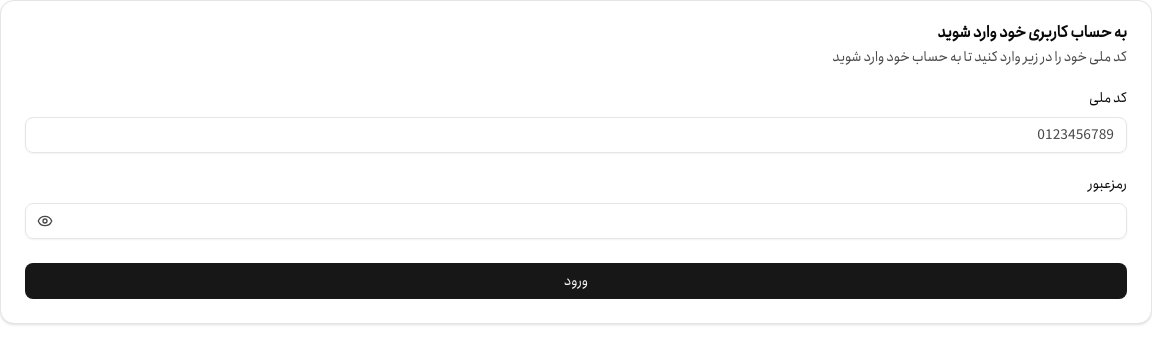
LoginForm › shows and hides the password on the admin login path
Step 1. Type "safe-password" into the password field labelled "رمزعبور" → coordinates (576, 221), box [25,203,1127,239]
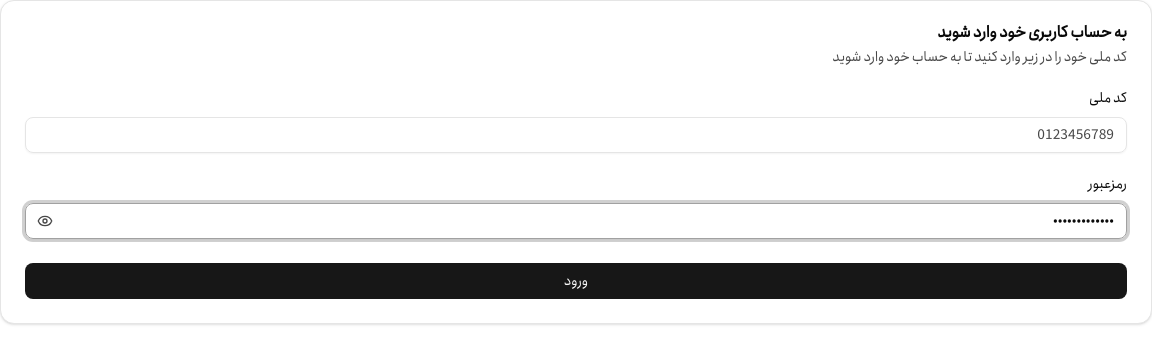
Step 2. Click the button named "نمایش رمز عبور" → coordinates (45, 221), box [33,209,57,233]
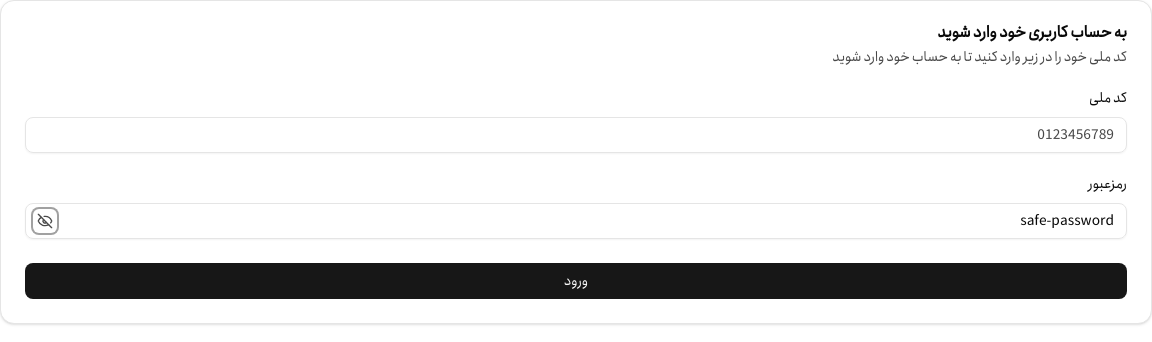
Result: the field labelled "رمزعبور" shows its text at [25,203,1127,239]
Step 3. Click the button named "پنهان کردن رمز عبور" → coordinates (45, 221), box [33,209,57,233]
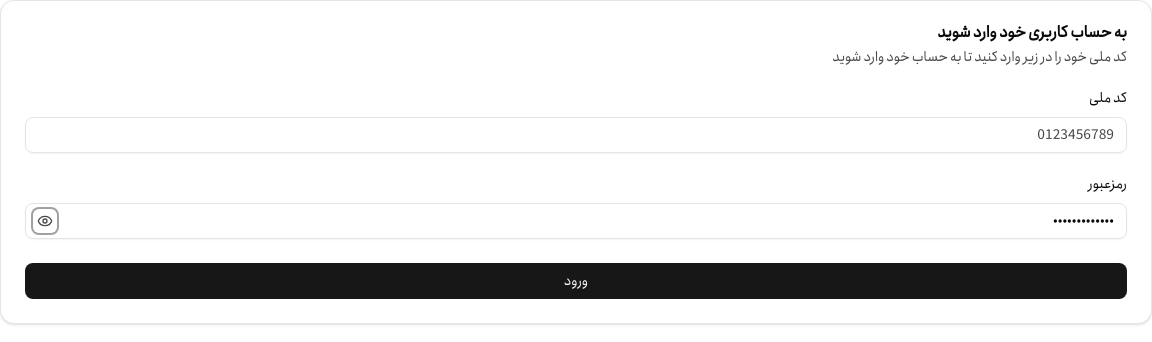
Result: the password field labelled "رمزعبور" hides its text at [25,203,1127,239]
